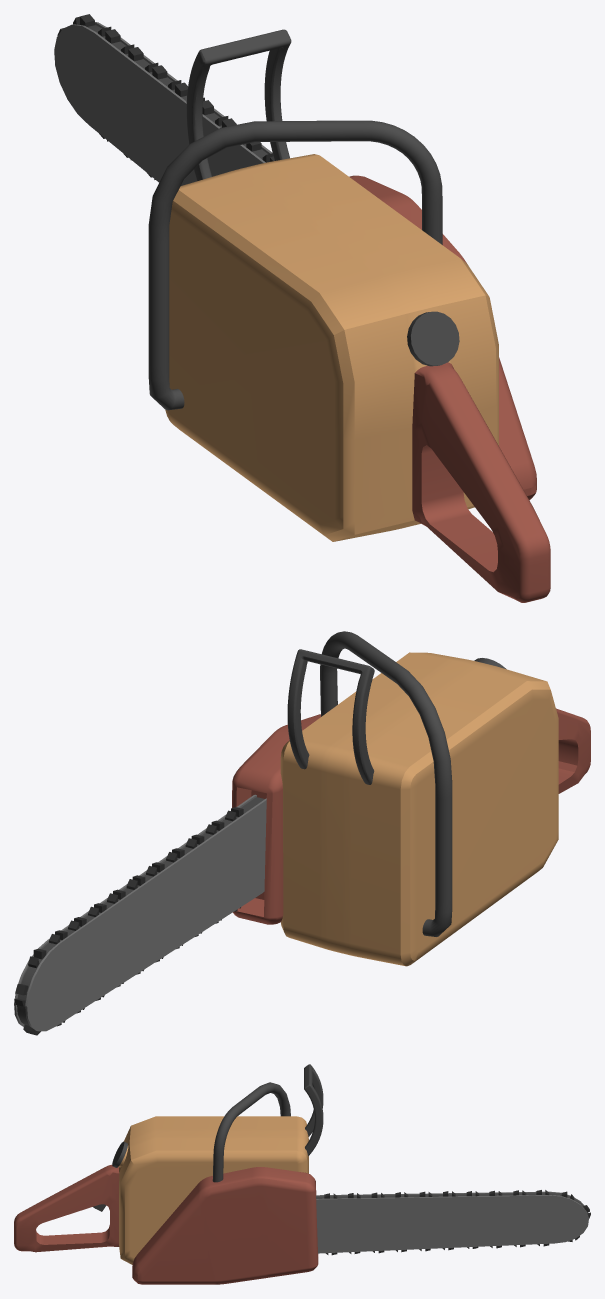
The model's file is Chainsaw.fbx.
3 views of the same model, one above another, from view 1: azimuth 30°, elevation 25°; view 2: azimuth 150°, elevation 25°; view 3: azimuth 270°, elevation 25° (orthographic). The views are drawn at different scales.
Visible parts, largest first — view 1: pCube1, pasted__pCube1, pCylinder1, pCube4, pCube2, pasted__pCylinder2; view 2: pCube1, pasted__pCube1, pCylinder1, pCube2, pCube4; view 3: pCube1, pCube2, pasted__pCube1, pCylinder1, pCube4.
Part boxes in pixels (x1,y1,x2,y2): pCube1: [165, 154, 550, 602]; pasted__pCube1: [54, 22, 272, 185]; pCylinder1: [148, 120, 442, 410]; pCube4: [186, 29, 291, 181]; pCube2: [349, 175, 536, 499]; pasted__pCylinder2: [407, 311, 459, 366]; pCube1: [280, 652, 590, 966]; pasted__pCube1: [14, 794, 266, 1031]; pCylinder1: [320, 631, 452, 936]; pCube2: [232, 714, 320, 924]; pCube4: [287, 649, 374, 784]; pCube1: [14, 1116, 308, 1264]; pCube2: [132, 1167, 318, 1284]; pasted__pCube1: [316, 1191, 588, 1253]; pCylinder1: [212, 1082, 290, 1182]; pCube4: [304, 1064, 323, 1155].
Size of the model in its own units: 3 by 4.36 by 12.47.
